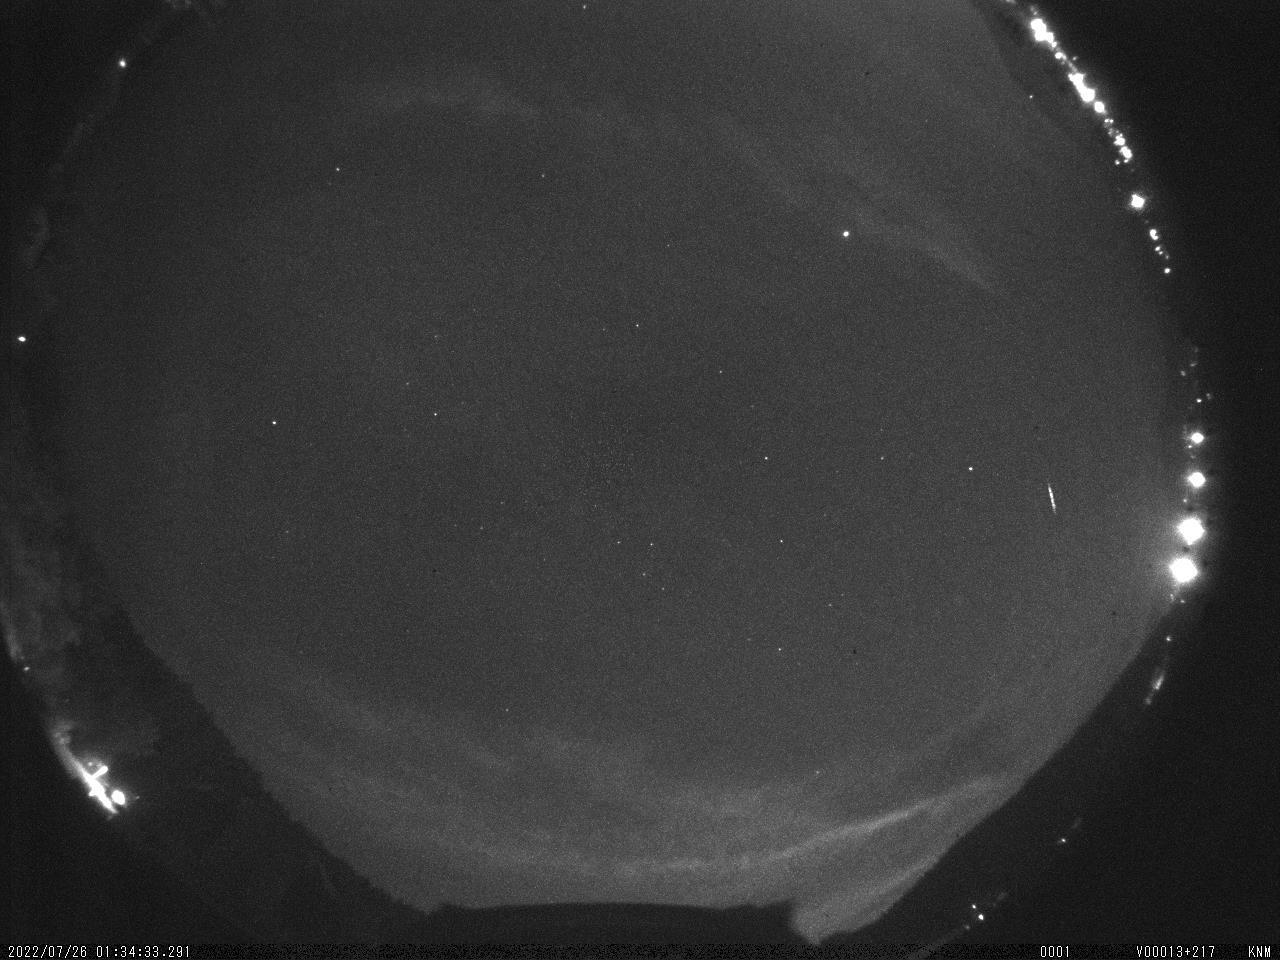Meteor: (1040, 475, 1062, 521)
